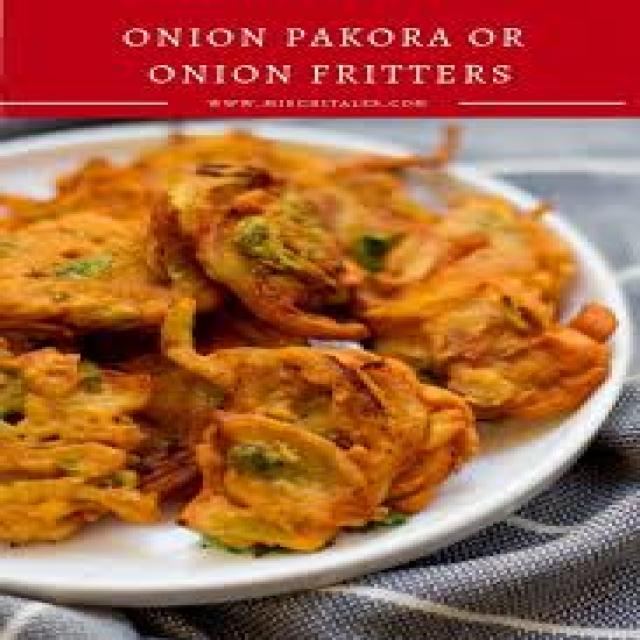BAJI: (0, 133, 630, 552)
